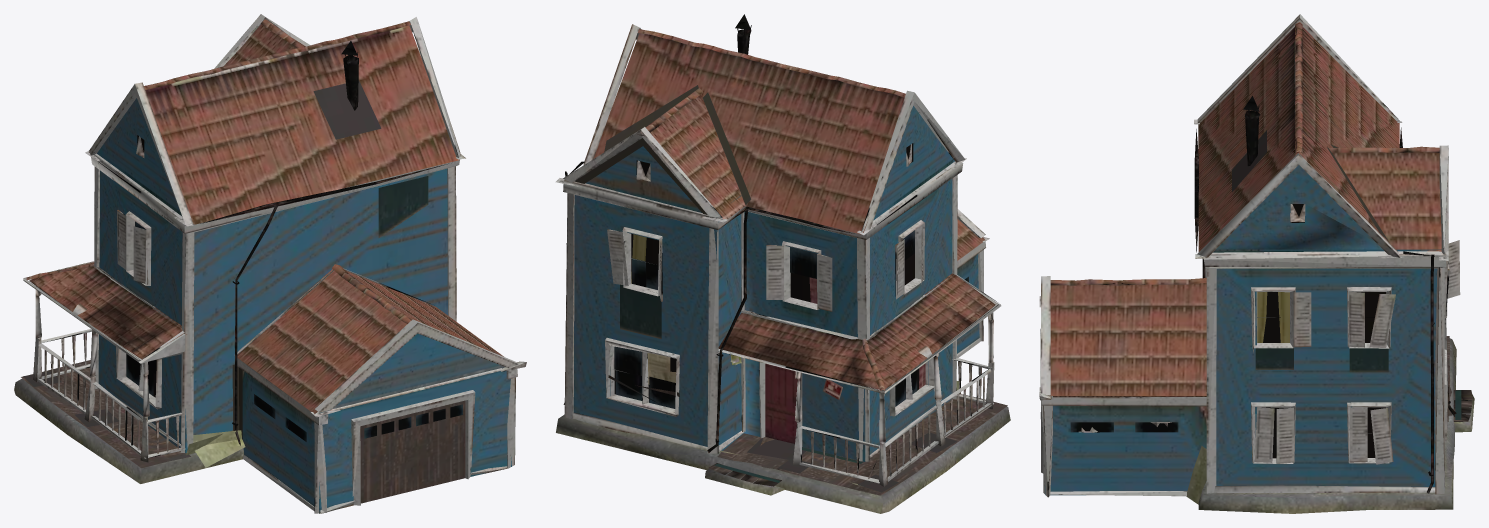
The model's file is blue_house_lod1.glb.
The picture shows the model from 3 angles, left to right: view 1: azimuth 30°, elevation 25°; view 2: azimuth 150°, elevation 25°; view 3: azimuth 270°, elevation 25°; orthographic projection.
Visible parts, largest first — view 1: blue_house; view 2: blue_house; view 3: blue_house.
Part boxes in pixels (x1=…): blue_house: x1=14, y1=14, x2=526, y2=513; blue_house: x1=555, y1=14, x2=1010, y2=513; blue_house: x1=1039, y1=14, x2=1474, y2=513.
Bounding box in the file's own units: 1592 × 1653 × 1739.
1 material, 1 textured.
